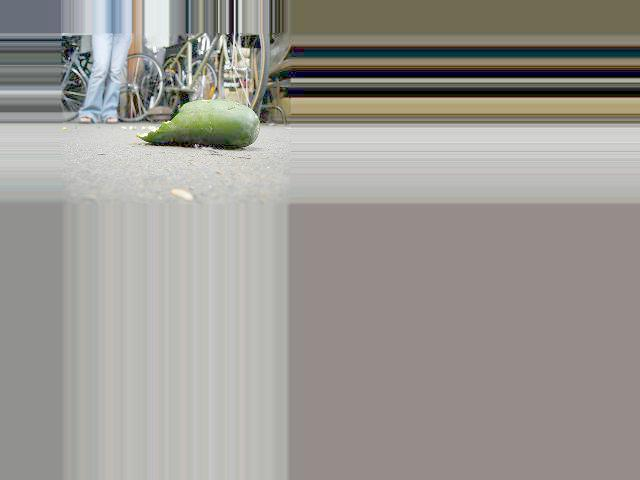cucumber: (134, 99, 259, 148)
